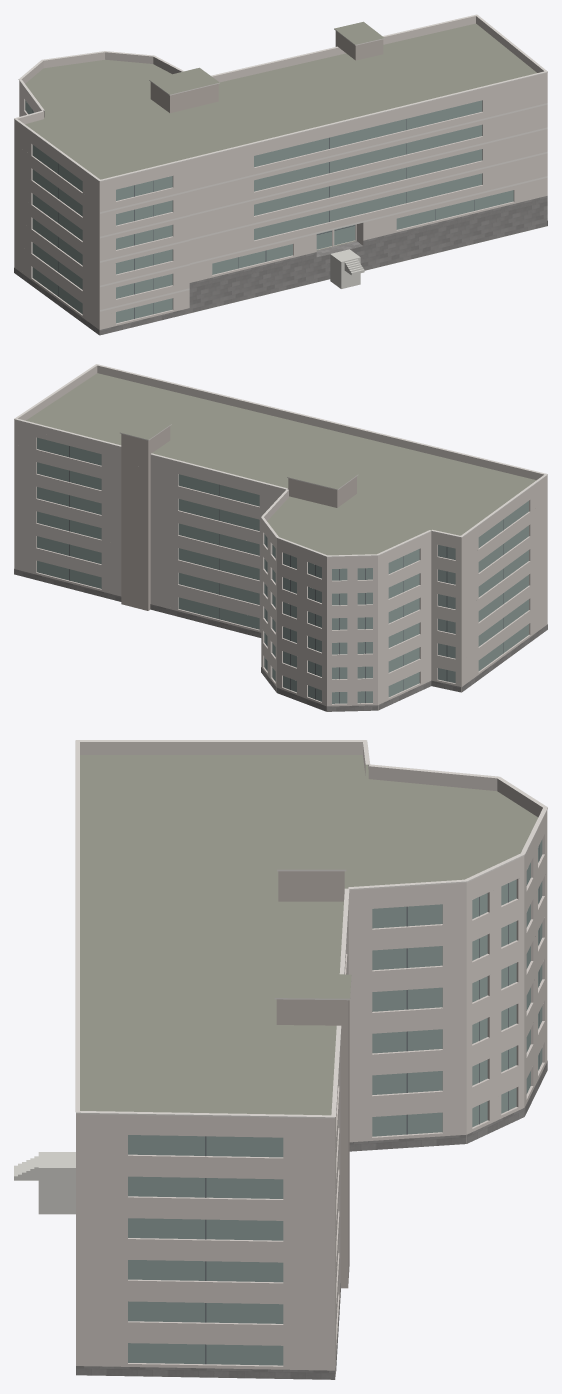
3 renders of one model, top to bottom at view 1: azimuth 30°, elevation 25°; view 2: azimuth 150°, elevation 25°; view 3: azimuth 270°, elevation 25°, orthographic. The views are drawn at different scales.
Visible parts, largest first — view 1: b25_1__wall, b25_1__roof, b25_1__glass, b25_1__base, b25_1__parapet, b25_1__trim, b25_1__wall2, b25_1__entranceStair, b25_1__frame; view 2: b25_1__wall, b25_1__roof, b25_1__glass, b25_1__parapet, b25_1__wall2, b25_1__base, b25_1__trim, b25_1__frame; view 3: b25_1__roof, b25_1__wall, b25_1__glass, b25_1__parapet, b25_1__wall2, b25_1__trim, b25_1__base, b25_1__entranceStair, b25_1__frame.
Boxes of the visible parts, x1=… form: b25_1__wall: x1=14, y1=79, x2=547, y2=334; b25_1__roof: x1=25, y1=21, x2=544, y2=312; b25_1__glass: x1=25, y1=100, x2=513, y2=323; b25_1__base: x1=14, y1=196, x2=547, y2=335; b25_1__parapet: x1=14, y1=16, x2=547, y2=188; b25_1__trim: x1=14, y1=14, x2=547, y2=311; b25_1__wall2: x1=150, y1=31, x2=383, y2=113; b25_1__entranceStair: x1=330, y1=249, x2=364, y2=288; b25_1__frame: x1=32, y1=109, x2=474, y2=318; b25_1__wall: x1=14, y1=426, x2=547, y2=711; b25_1__roof: x1=26, y1=373, x2=536, y2=555; b25_1__glass: x1=37, y1=437, x2=528, y2=703; b25_1__parapet: x1=14, y1=365, x2=547, y2=563; b25_1__wall2: x1=121, y1=426, x2=356, y2=610; b25_1__base: x1=14, y1=569, x2=547, y2=711; b25_1__trim: x1=14, y1=364, x2=547, y2=557; b25_1__frame: x1=69, y1=446, x2=503, y2=703; b25_1__roof: x1=80, y1=755, x2=538, y2=1379; b25_1__wall: x1=76, y1=820, x2=547, y2=1379; b25_1__glass: x1=128, y1=839, x2=542, y2=1365; b25_1__parapet: x1=76, y1=742, x2=547, y2=1129; b25_1__wall2: x1=276, y1=871, x2=349, y2=1288; b25_1__trim: x1=75, y1=740, x2=547, y2=1118; b25_1__base: x1=76, y1=1061, x2=547, y2=1379; b25_1__entranceStair: x1=14, y1=1152, x2=75, y2=1214; b25_1__frame: x1=205, y1=845, x2=539, y2=1364.
Size of the model in its own units: 69.95 by 25.41 by 41.85.
Materials: 10 (1 with a texture image).
